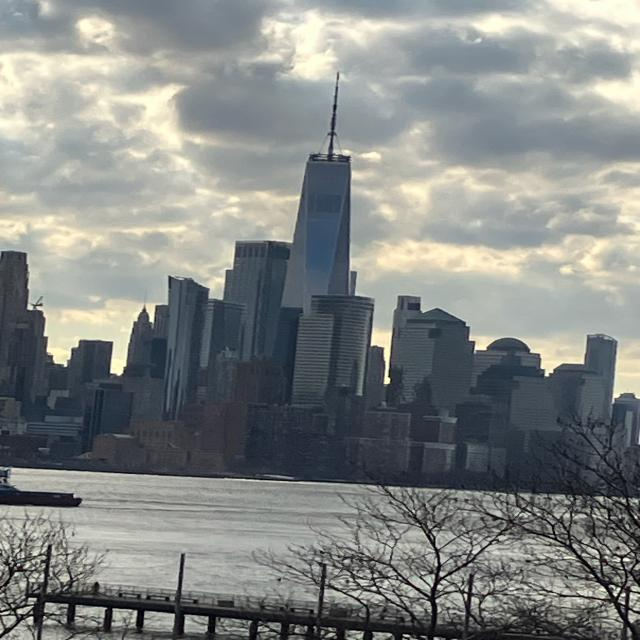WTC: (285, 71, 353, 295)
